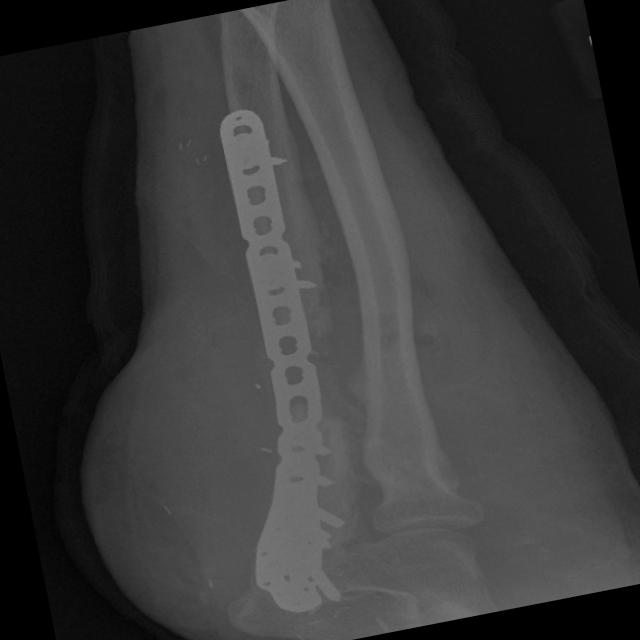elbow positive: (296, 298, 370, 481)
